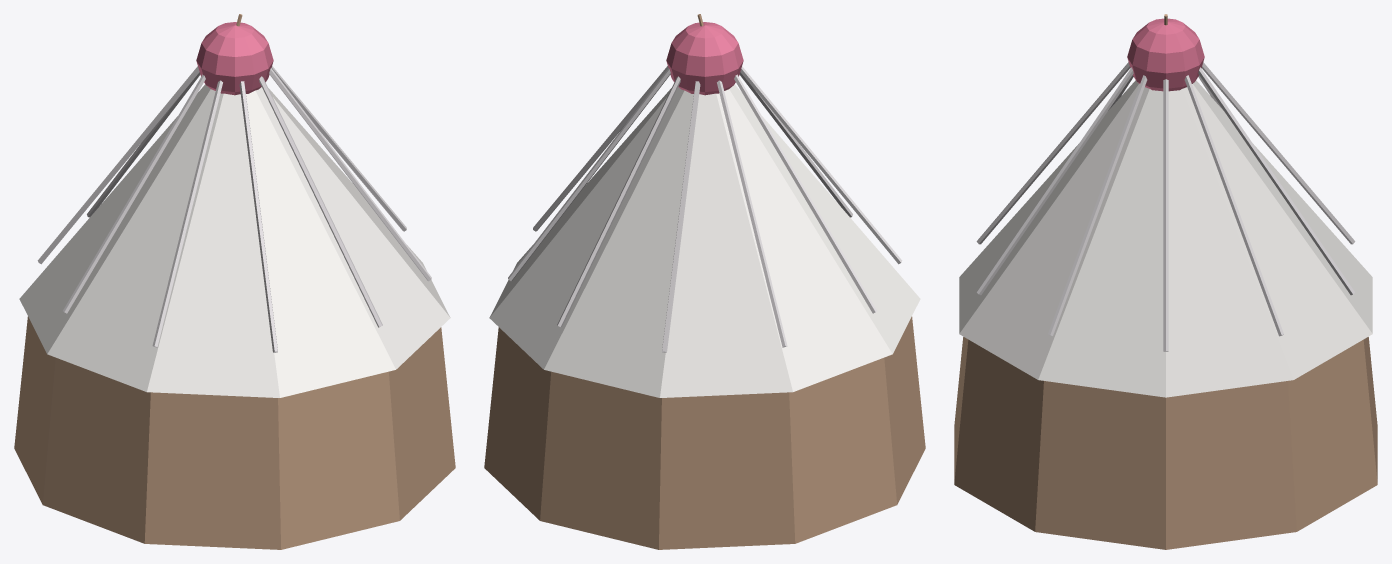
Rendered from montana_nata.glb.
3 views of the same model, side by side, from view 1: azimuth 30°, elevation 25°; view 2: azimuth 150°, elevation 25°; view 3: azimuth 270°, elevation 25° (orthographic).
Parts seen in each view (by area): view 1: montana_nata; view 2: montana_nata; view 3: montana_nata.
Boxes of the visible parts, <box> form: montana_nata: <box>14,14,455,549</box>; montana_nata: <box>484,14,925,549</box>; montana_nata: <box>954,14,1377,549</box>.
Bounding box in the file's own units: 8.6 × 9.46 × 8.18.
